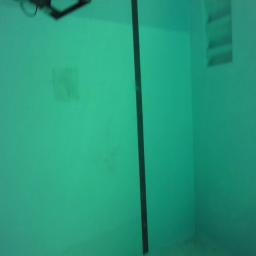Full: (25, 3, 95, 20)
